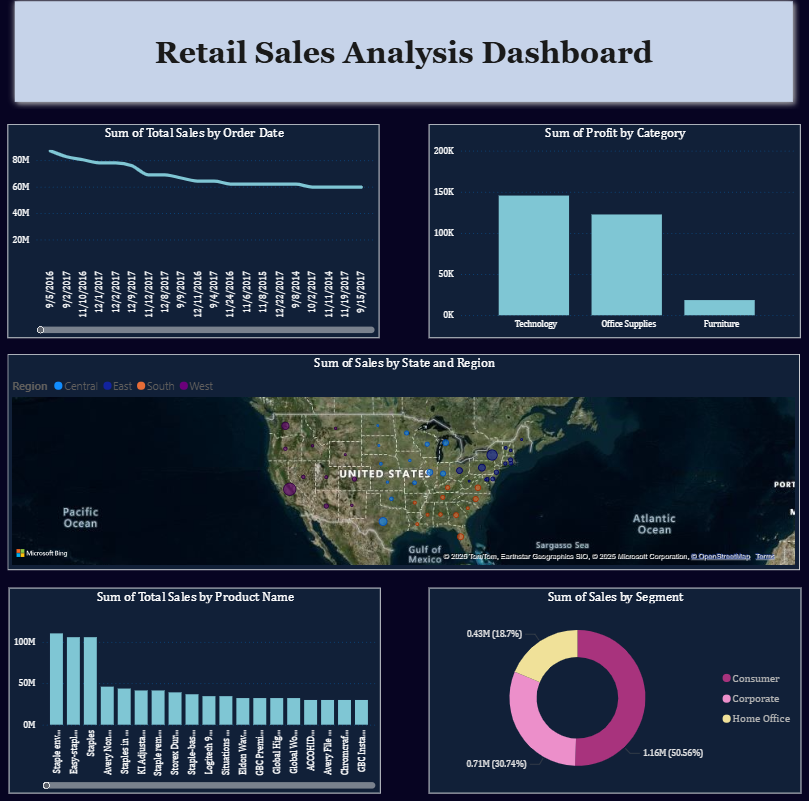

The page's visual inventory and layout, read from the dashboard file:
{"tool":"powerbi","page":{"name":"Page 1","canvas":[1000,1000],"ordinal":0},"visuals":[{"type":"lineChart","fields":{"Category":["Superstore.Order Date"],"Y":["Sum(Superstore.Total Sales)"]},"box":[9.9,161.2,460.4,265],"z":0},{"type":"columnChart","fields":{"Category":["Superstore.Category"],"Y":["Sum(Superstore.Profit)"]},"box":[529.9,161.2,460.4,265],"z":1000},{"type":"map","fields":{"Size":["Sum(Superstore.Sales)"],"Category":["Superstore.State"],"Series":["Superstore.Region"]},"box":[10,446,980.3,267.2],"z":2000},{"type":"columnChart","fields":{"Category":["Superstore.Product Name"],"Y":["Sum(Superstore.Total Sales)"]},"box":[10.3,734.4,459.8,254.8],"z":3000},{"type":"donutChart","fields":{"Category":["Superstore.Segment"],"Y":["Sum(Superstore.Sales)"]},"box":[530.1,734.4,460.5,254.8],"z":4000},{"type":"shape","box":[9.9,0,980.3,142.4],"z":5000}]}

Visuals, with their boxes in screenshot pixels (x1, y1, x2, y2), scaled from the page's 1000x1000 canvas onto the 809x801 screenshot:
lineChart - Superstore.Order Date x Sum(Superstore.Total Sales): bbox=(8, 129, 380, 341)
columnChart - Superstore.Category x Sum(Superstore.Profit): bbox=(429, 129, 801, 341)
map - Sum(Superstore.Sales) x Superstore.State: bbox=(8, 357, 801, 571)
columnChart - Superstore.Product Name x Sum(Superstore.Total Sales): bbox=(8, 588, 380, 792)
donutChart - Superstore.Segment x Sum(Superstore.Sales): bbox=(429, 588, 801, 792)
shape: bbox=(8, 0, 801, 114)
